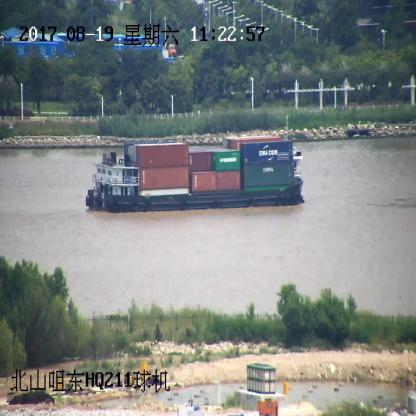Container Ship: (87, 135, 303, 211)
